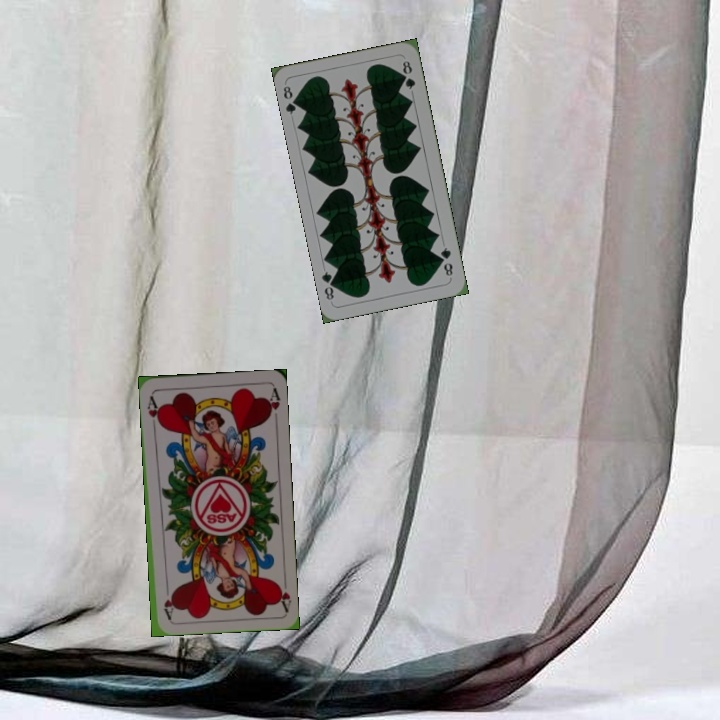G8: (279, 82, 302, 117), (436, 243, 455, 279)
HA: (143, 392, 163, 431), (273, 579, 294, 613)
